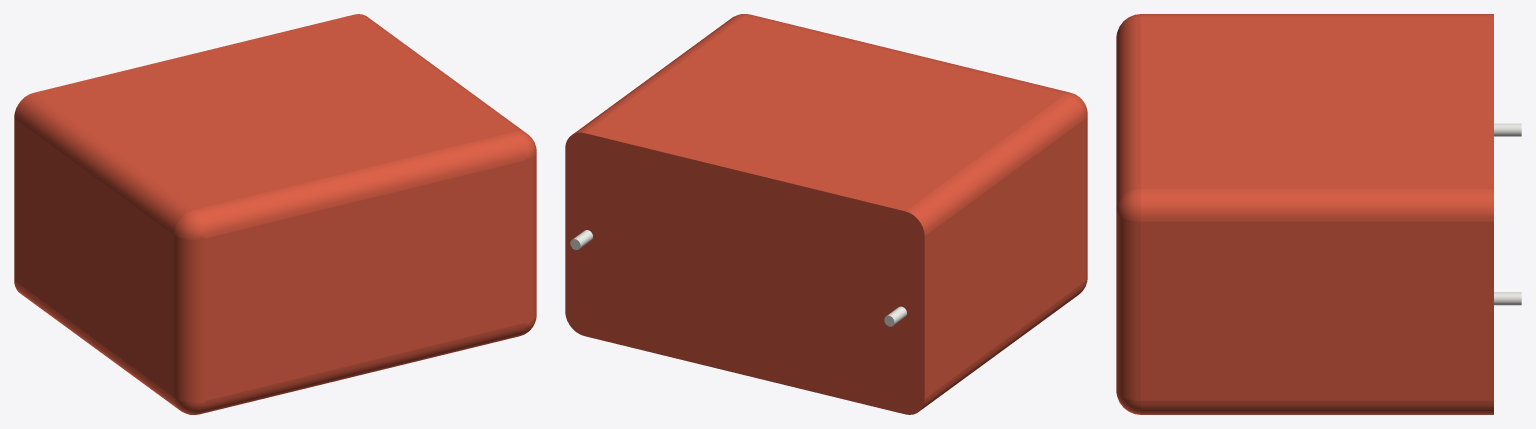
The model's file is C_Rect_L31.5mm_W17.0mm_P27.50mm_MKS4.glb.
The picture shows the model from 3 angles, left to right: view 1: azimuth 30°, elevation 25°; view 2: azimuth 150°, elevation 25°; view 3: azimuth 270°, elevation 25°; orthographic projection. The views are drawn at different scales.
Parts seen in each view (by area): view 1: Shape_IndexedFaceSet.008, Shape_IndexedFaceSet.009, Shape_IndexedFaceSet, Shape_IndexedFaceSet.016, Shape_IndexedFaceSet.004, Shape_IndexedFaceSet.002, Shape_IndexedFaceSet.015, Shape_IndexedFaceSet.017, Shape_IndexedFaceSet.001, Shape_IndexedFaceSet.011, Shape_IndexedFaceSet.007; view 2: Shape_IndexedFaceSet.003, Shape_IndexedFaceSet.009, Shape_IndexedFaceSet, Shape_IndexedFaceSet.004, Shape_IndexedFaceSet.001, Shape_IndexedFaceSet.011, Shape_IndexedFaceSet.016, Shape_IndexedFaceSet.002; view 3: Shape_IndexedFaceSet.012, Shape_IndexedFaceSet.009, Shape_IndexedFaceSet.011, Shape_IndexedFaceSet.010, Shape_IndexedFaceSet.017, Shape_IndexedFaceSet.016, Shape_IndexedFaceSet.004, Shape_IndexedFaceSet.019, Shape_IndexedFaceSet.013, Shape_IndexedFaceSet.014.
Part boxes in pixels (left/top/right/bottom): Shape_IndexedFaceSet.008: left=205, top=160, right=525, bottom=400; Shape_IndexedFaceSet.009: left=34, top=14, right=513, bottom=209; Shape_IndexedFaceSet: left=14, top=118, right=174, bottom=396; Shape_IndexedFaceSet.016: left=194, top=132, right=525, bottom=238; Shape_IndexedFaceSet.004: left=14, top=93, right=192, bottom=234; Shape_IndexedFaceSet.002: left=174, top=235, right=204, bottom=402; Shape_IndexedFaceSet.015: left=200, top=323, right=525, bottom=414; Shape_IndexedFaceSet.017: left=525, top=154, right=536, bottom=322; Shape_IndexedFaceSet.001: left=14, top=280, right=178, bottom=409; Shape_IndexedFaceSet.011: left=355, top=14, right=525, bottom=132; Shape_IndexedFaceSet.007: left=174, top=210, right=204, bottom=239; Shape_IndexedFaceSet.003: left=565, top=132, right=924, bottom=414; Shape_IndexedFaceSet.009: left=585, top=16, right=1064, bottom=211; Shape_IndexedFaceSet: left=924, top=119, right=1084, bottom=398; Shape_IndexedFaceSet.004: left=905, top=94, right=1084, bottom=235; Shape_IndexedFaceSet.001: left=920, top=282, right=1084, bottom=410; Shape_IndexedFaceSet.011: left=573, top=15, right=743, bottom=133; Shape_IndexedFaceSet.016: left=745, top=14, right=1069, bottom=93; Shape_IndexedFaceSet.002: left=1085, top=116, right=1087, bottom=280; Shape_IndexedFaceSet.012: left=1141, top=221, right=1493, bottom=400; Shape_IndexedFaceSet.009: left=1141, top=16, right=1493, bottom=188; Shape_IndexedFaceSet.011: left=1141, top=189, right=1493, bottom=221; Shape_IndexedFaceSet.010: left=1141, top=400, right=1493, bottom=414; Shape_IndexedFaceSet.017: left=1116, top=212, right=1140, bottom=400; Shape_IndexedFaceSet.016: left=1116, top=16, right=1140, bottom=208; Shape_IndexedFaceSet.004: left=1141, top=14, right=1493, bottom=16; Shape_IndexedFaceSet.019: left=1116, top=189, right=1140, bottom=221; Shape_IndexedFaceSet.013: left=1494, top=123, right=1521, bottom=136; Shape_IndexedFaceSet.014: left=1494, top=292, right=1521, bottom=305.
Bounding box in the file's own units: 12.4 × 6.69 × 10.98.
